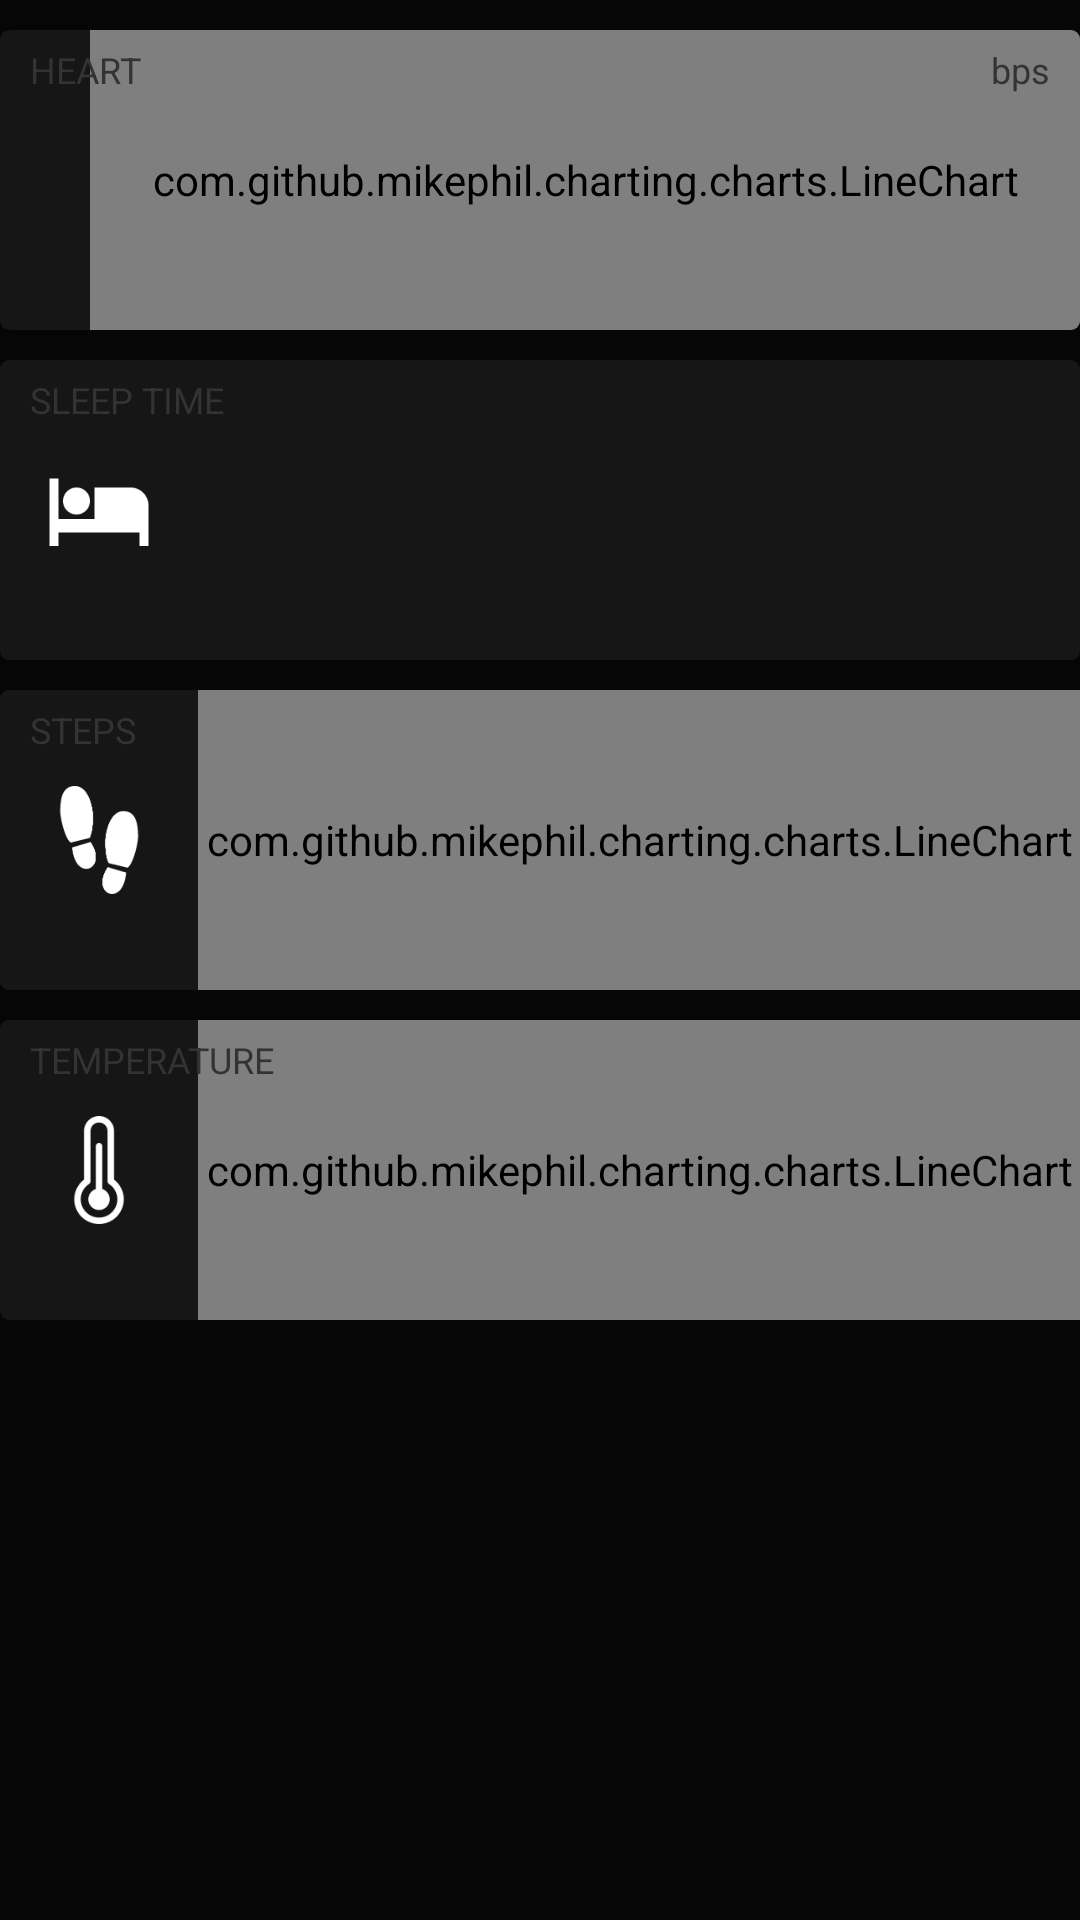

Named icons in this screenshot (1080w x 1920h) and their centers, (x,y):
hotel: (99,512)
